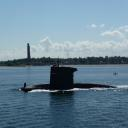submarine: (21, 65, 121, 93)
